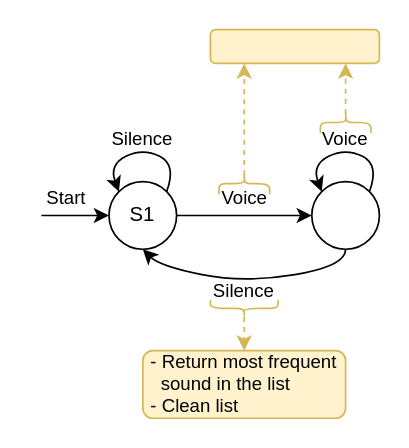
Image size: 409x448. Some labels were removed from this diagram. Here are the shapes that lost their labels. From the top down, the box of each, then its label:
(209, 28, 379, 63): Add sound to list
(310, 180, 379, 249): S2
